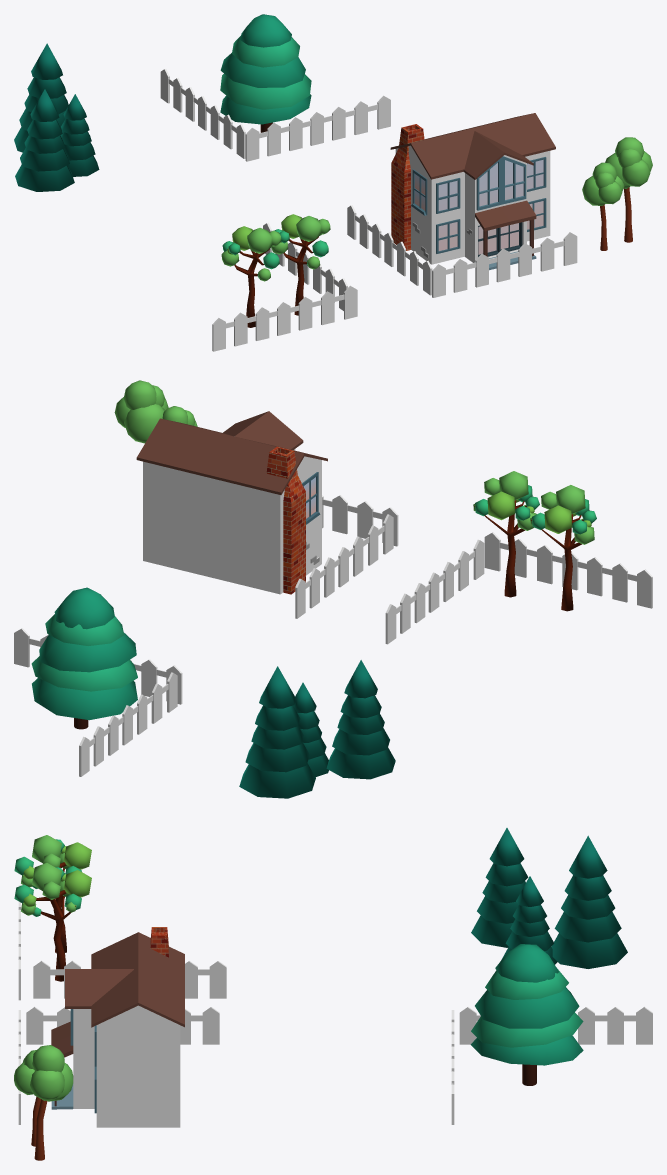
File: kirsal.template.fbx
The picture shows the model from 3 angles, top to bottom: view 1: azimuth 30°, elevation 25°; view 2: azimuth 150°, elevation 25°; view 3: azimuth 270°, elevation 25°; orthographic projection. The views are drawn at different scales.
Parts seen in each view (by area): view 1: Cube.007, agac3, agac1.001, Cube.001, Cube.002, Cube.006, agac4.001, Cube.005, agac4, agac1, Cube.004, agac2 (+3 smaller); view 2: Cube.007, agac3, agac1, agac1.001, Cube.002, agac4.001, agac4, Cube.003, Cube.005, Cube.004, agac2, agac1.002 (+2 smaller); view 3: Cube.007, agac3, agac1, agac1.001, agac4, agac2, Cube.005, agac4.001, agac1.002, Cube.003, Cube.004.
Boxes of the visible parts, x1=… form: Cube.007: x1=390, y1=113, x2=555, y2=270; agac3: x1=220, y1=14, x2=311, y2=132; agac1.001: x1=15, y1=89, x2=74, y2=191; Cube.001: x1=432, y1=232, x2=577, y2=297; Cube.002: x1=212, y1=285, x2=357, y2=351; Cube.006: x1=245, y1=95, x2=390, y2=161; agac4.001: x1=221, y1=226, x2=281, y2=327; Cube.005: x1=160, y1=69, x2=245, y2=158; agac4: x1=271, y1=214, x2=330, y2=315; agac1: x1=14, y1=43, x2=68, y2=152; Cube.004: x1=347, y1=205, x2=432, y2=295; agac2: x1=605, y1=137, x2=652, y2=242; Cube.007: x1=136, y1=411, x2=327, y2=594; agac3: x1=31, y1=587, x2=137, y2=729; agac1: x1=239, y1=666, x2=315, y2=798; agac1.001: x1=326, y1=660, x2=395, y2=779; Cube.002: x1=484, y1=532, x2=652, y2=608; agac4.001: x1=530, y1=485, x2=596, y2=611; agac4: x1=473, y1=471, x2=539, y2=597; Cube.003: x1=385, y1=539, x2=484, y2=644; Cube.005: x1=79, y1=672, x2=177, y2=776; Cube.004: x1=295, y1=514, x2=393, y2=618; agac2: x1=114, y1=380, x2=168, y2=443; agac1.002: x1=293, y1=682, x2=328, y2=776; Cube.007: x1=51, y1=927, x2=184, y2=1127; agac3: x1=470, y1=944, x2=583, y2=1085; agac1: x1=551, y1=835, x2=627, y2=968; agac1.001: x1=471, y1=828, x2=528, y2=947; agac4: x1=14, y1=863, x2=91, y2=981; agac2: x1=14, y1=1045, x2=73, y2=1160; Cube.005: x1=459, y1=1007, x2=652, y2=1044; agac4.001: x1=14, y1=835, x2=91, y2=952; agac1.002: x1=501, y1=876, x2=557, y2=964; Cube.003: x1=33, y1=961, x2=226, y2=998; Cube.004: x1=26, y1=1007, x2=219, y2=1044.
Size of what is drawn, in the model's own units: 9369 by 2465 by 9914.
11 materials, 11 textured.
